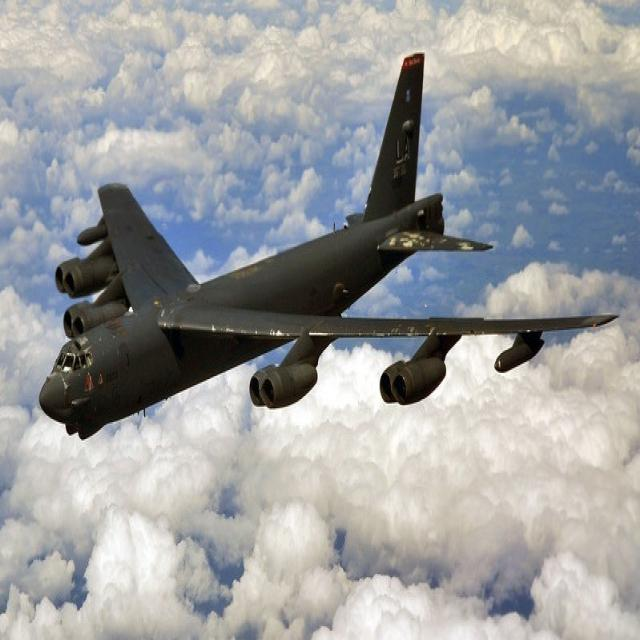B52: (34, 36, 629, 449)
